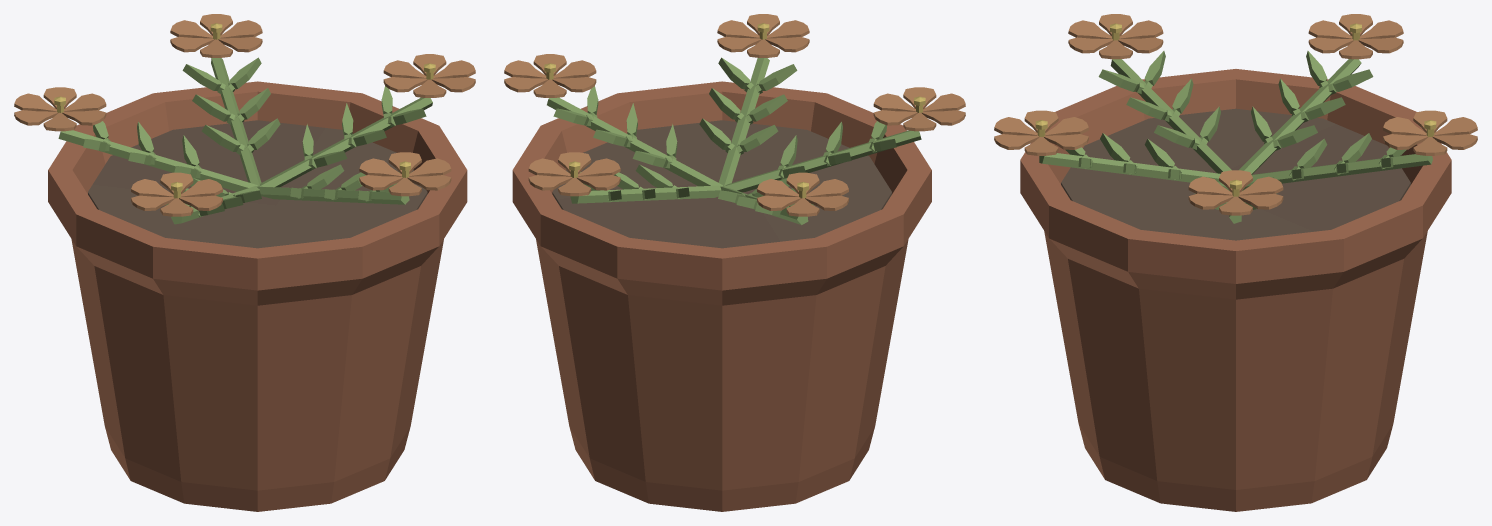
The model's file is portulaca.glb.
3 renders of one model, left to right at view 1: azimuth 30°, elevation 25°; view 2: azimuth 150°, elevation 25°; view 3: azimuth 270°, elevation 25°, orthographic. The views are drawn at different scales.
Parts seen in each view (by area): view 1: portulaca/review-terra-vessel, portulaca/review-rooted-soil, portulaca/petiole-043, portulaca/petiole-001, portulaca/petiole-022, portulaca/petiole-085, portulaca/petal-101, portulaca/petal-103, portulaca/petal-017, portulaca/petal-019, portulaca/petal-061, portulaca/petal-059 (+4 smaller); view 2: portulaca/review-terra-vessel, portulaca/review-rooted-soil, portulaca/petiole-064, portulaca/petiole-001, portulaca/petiole-085, portulaca/petiole-022, portulaca/petal-036, portulaca/petal-038, portulaca/petal-015, portulaca/petal-017, portulaca/petal-078, portulaca/petal-080 (+4 smaller); view 3: portulaca/review-terra-vessel, portulaca/review-rooted-soil, portulaca/petiole-085, portulaca/petiole-022, portulaca/petiole-043, portulaca/petiole-064, portulaca/petal-036, portulaca/petal-103, portulaca/petal-040, portulaca/petal-099, portulaca/petal-015, portulaca/petal-019 (+4 smaller).
Boxes of the visible parts, left/top/right/bottom form: portulaca/review-terra-vessel: left=48, top=81, right=467, bottom=511; portulaca/review-rooted-soil: left=88, top=120, right=427, bottom=248; portulaca/petiole-043: left=58, top=130, right=257, bottom=191; portulaca/petiole-001: left=258, top=97, right=432, bottom=187; portulaca/petiole-022: left=211, top=58, right=261, bottom=186; portulaca/petiole-085: left=257, top=186, right=409, bottom=204; portulaca/petal-101: left=409, top=158, right=451, bottom=176; portulaca/petal-103: left=359, top=158, right=401, bottom=176; portulaca/petal-017: left=433, top=60, right=475, bottom=78; portulaca/petal-019: left=383, top=60, right=426, bottom=78; portulaca/petal-061: left=14, top=93, right=56, bottom=111; portulaca/petal-059: left=64, top=93, right=106, bottom=111; portulaca/review-terra-vessel: left=512, top=81, right=931, bottom=511; portulaca/review-rooted-soil: left=552, top=120, right=891, bottom=248; portulaca/petiole-064: left=722, top=130, right=921, bottom=192; portulaca/petiole-001: left=547, top=97, right=722, bottom=186; portulaca/petiole-085: left=718, top=58, right=769, bottom=186; portulaca/petiole-022: left=570, top=185, right=721, bottom=203; portulaca/petal-036: left=578, top=158, right=620, bottom=176; portulaca/petal-038: left=528, top=158, right=570, bottom=176; portulaca/petal-015: left=553, top=60, right=596, bottom=78; portulaca/petal-017: left=504, top=60, right=546, bottom=78; portulaca/petal-078: left=923, top=93, right=965, bottom=111; portulaca/petal-080: left=873, top=93, right=915, bottom=111; portulaca/review-terra-vessel: left=1020, top=69, right=1451, bottom=511; portulaca/review-rooted-soil: left=1061, top=108, right=1410, bottom=240; portulaca/petiole-085: left=1039, top=153, right=1221, bottom=182; portulaca/petiole-022: left=1250, top=154, right=1432, bottom=183; portulaca/petiole-043: left=1239, top=59, right=1361, bottom=174; portulaca/petiole-064: left=1110, top=59, right=1231, bottom=173; portulaca/petal-036: left=1383, top=117, right=1426, bottom=135; portulaca/petal-103: left=1045, top=117, right=1088, bottom=135; portulaca/petal-040: left=1434, top=117, right=1477, bottom=135; portulaca/petal-099: left=994, top=117, right=1037, bottom=135; portulaca/petal-015: left=1188, top=176, right=1232, bottom=195; portulaca/petal-019: left=1239, top=176, right=1283, bottom=195.
Bounding box in the file's own units: 0.2071 × 0.172 × 0.213.
5 materials, 5 textured.
